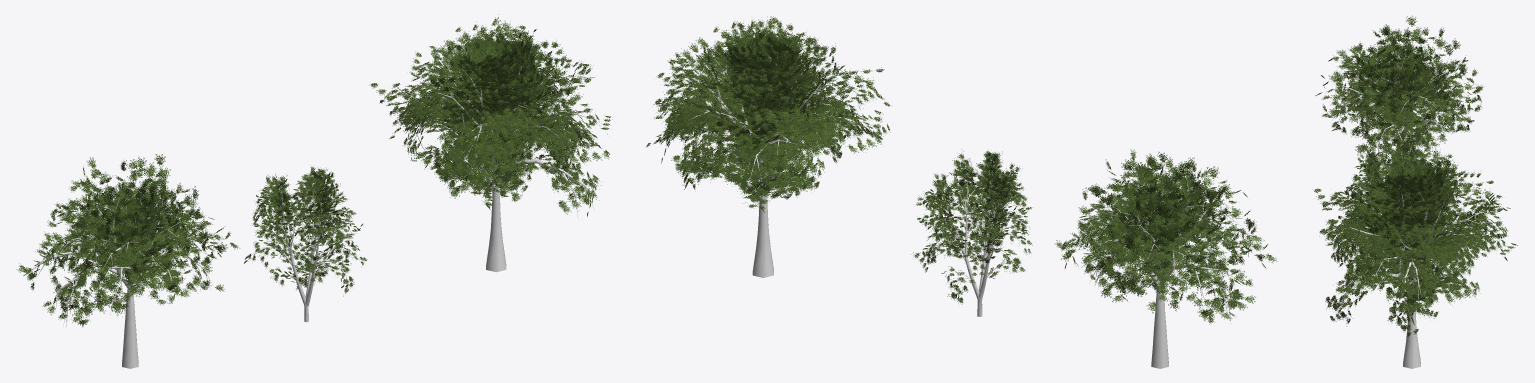
The model's file is beberapa_pohon_baru.fbx.
3 views of the same model, side by side, from view 1: azimuth 30°, elevation 25°; view 2: azimuth 150°, elevation 25°; view 3: azimuth 270°, elevation 25° (orthographic). The views are drawn at different scales.
Visible parts, largest first — view 1: leaves.002, leaves.001, leaves, tree, tree.001, tree.002; view 2: leaves.002, leaves.001, leaves, tree, tree.001, tree.002; view 3: leaves.002, leaves.001, tree.001, leaves, tree.
Boxes of the visible parts, box(x1,y1,x2,y2) form: leaves.002: box(370, 14, 612, 216); leaves.001: box(16, 154, 240, 327); leaves: box(244, 166, 366, 296); tree: box(31, 176, 224, 368); tree.001: box(394, 36, 598, 272); tree.002: box(252, 182, 357, 322); leaves.002: box(646, 16, 890, 212); leaves.001: box(1054, 149, 1277, 324); leaves: box(913, 149, 1032, 304); tree: box(1072, 172, 1244, 368); tree.001: box(668, 49, 859, 277); tree.002: box(923, 170, 1022, 316); leaves.002: box(1314, 142, 1517, 336); leaves.001: box(1315, 15, 1484, 173); tree.001: box(1337, 173, 1498, 368); leaves: box(1346, 135, 1427, 246); tree: box(1327, 30, 1463, 161).
Bounding box in the file's own units: 13647 × 5363 × 4920.
2 materials, 2 textured.
